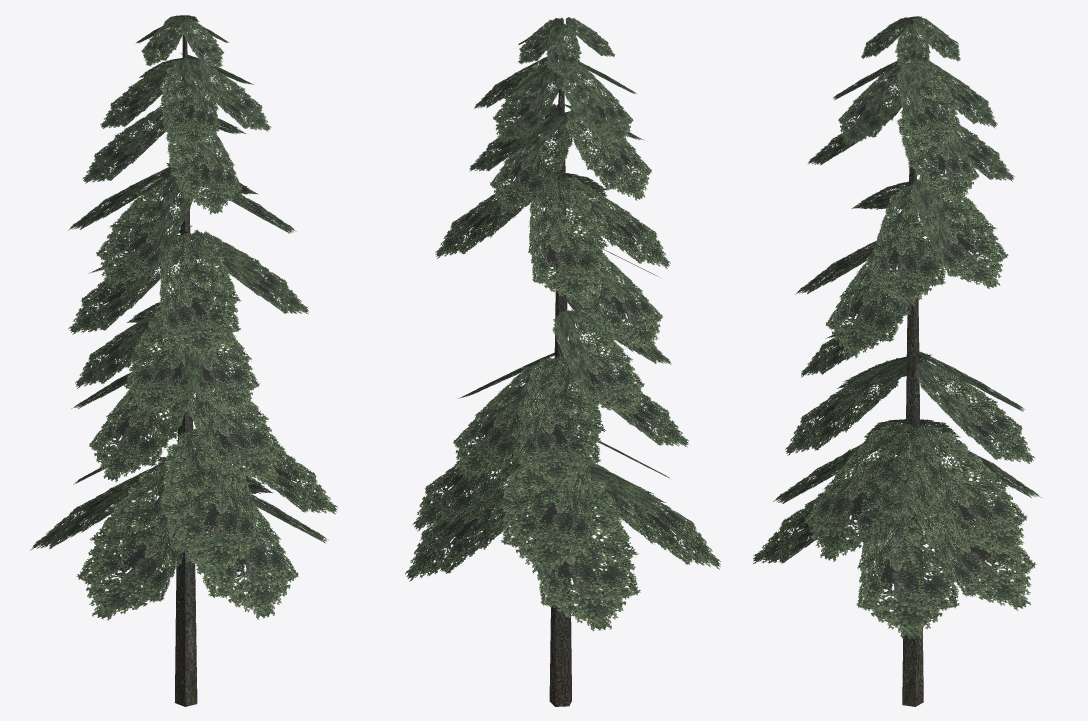
The model's file is PineTree02.obj.
3 renders of one model, left to right at view 1: azimuth 30°, elevation 25°; view 2: azimuth 150°, elevation 25°; view 3: azimuth 270°, elevation 25°, orthographic.
Parts seen in each view (by area): view 1: PineTree02; view 2: PineTree02; view 3: PineTree02.
Boxes of the visible parts, box(x1,y1,x2,y2) form: PineTree02: box(30, 15, 337, 706); PineTree02: box(405, 17, 720, 706); PineTree02: box(753, 16, 1041, 706).
Bounding box in the file's own units: 6.31 × 14.19 × 6.05.
